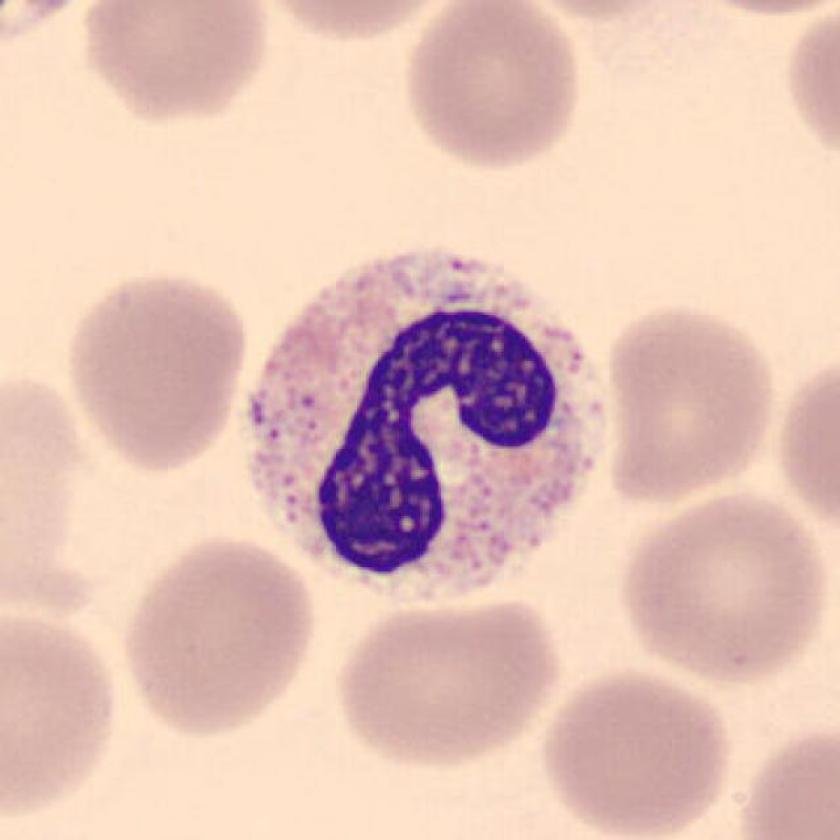neutrophil: (250, 253, 605, 605)
